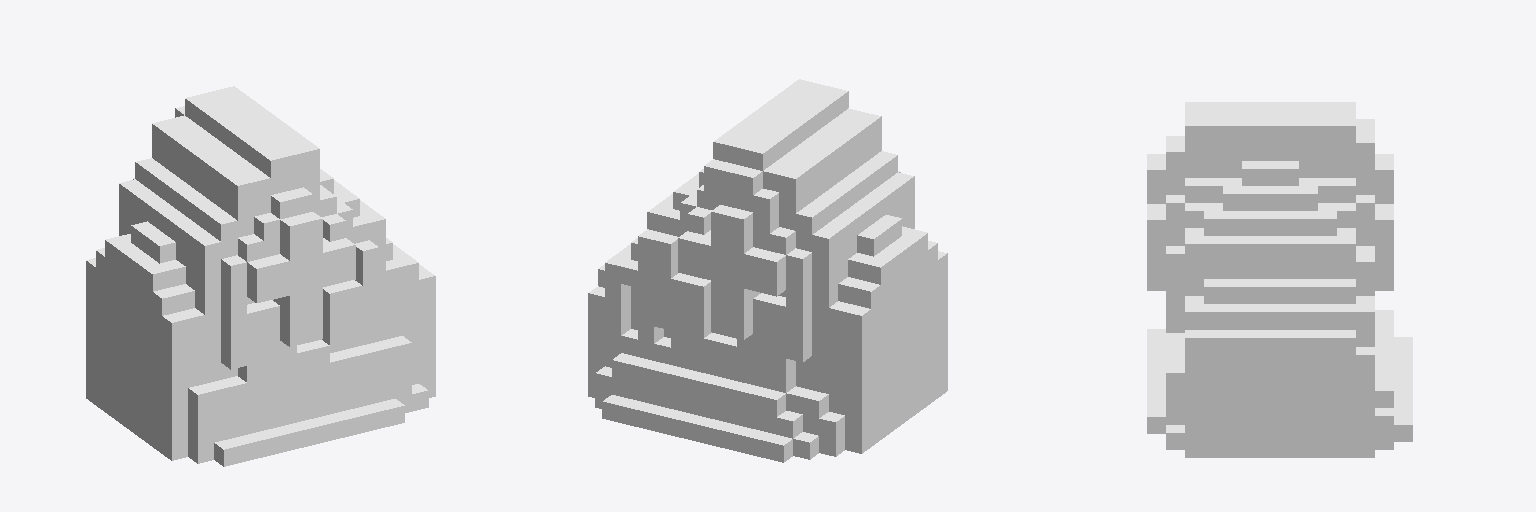
Rendered from Grave.vox.obj.
3 renders of one model, left to right at view 1: azimuth 30°, elevation 25°; view 2: azimuth 150°, elevation 25°; view 3: azimuth 270°, elevation 25°, orthographic.
Visible parts, largest first — view 1: object 1; view 2: object 1; view 3: object 1.
Boxes of the visible parts, x1,y1,x2,y2 form: object 1: [86, 86, 435, 466]; object 1: [588, 79, 947, 462]; object 1: [1147, 102, 1412, 457].
Size of the model in its own units: 1.6 by 1.6 by 1.4.